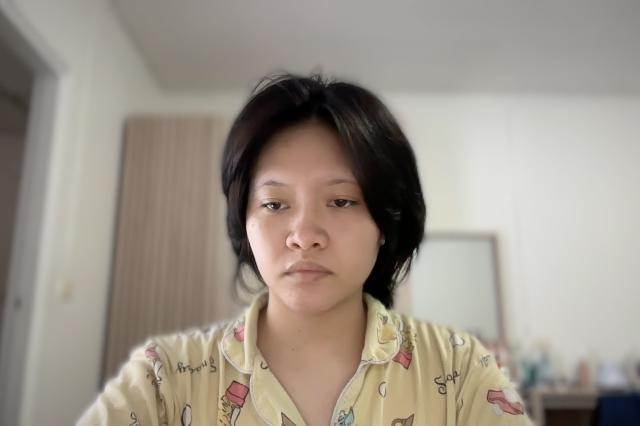fokus: (238, 99, 384, 319)
